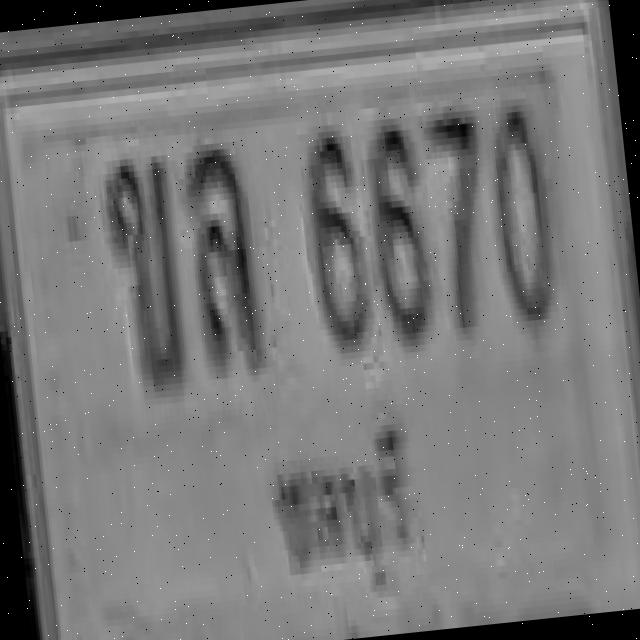0: (484, 94, 560, 326)
11KhorKhai: (99, 148, 190, 395)
45LorLing: (180, 137, 264, 370)
6: (362, 113, 436, 345), (298, 120, 372, 352)
7: (423, 104, 497, 336)
Chonburi: (261, 406, 418, 600)
